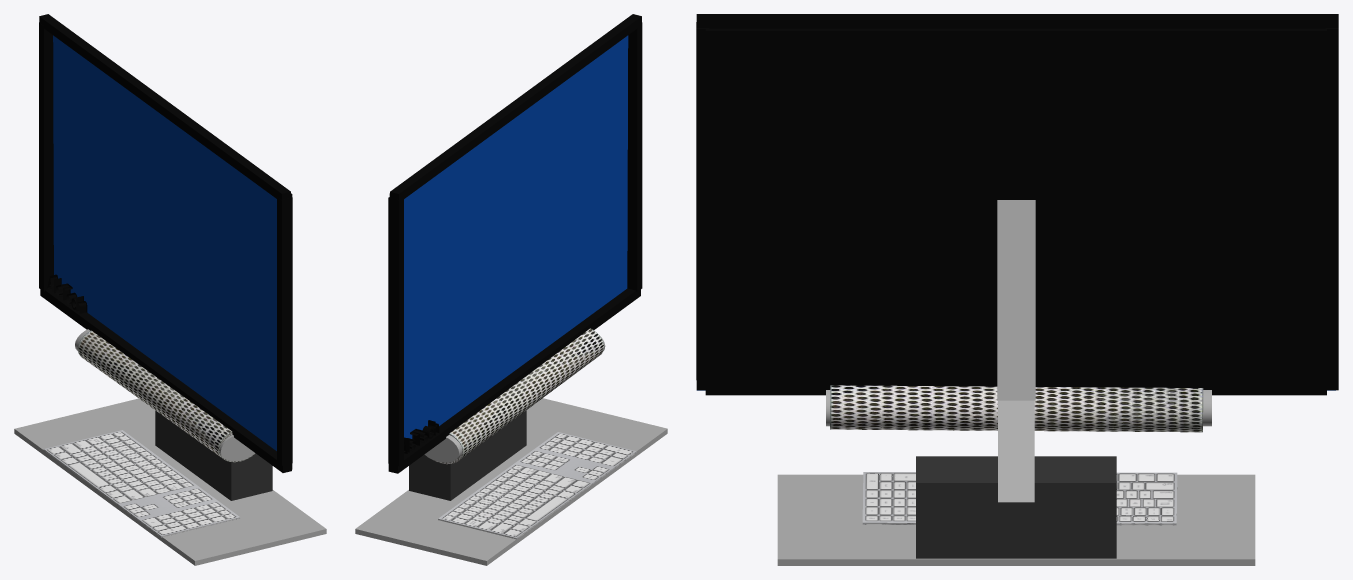
File: desktop-computer.obj
The picture shows the model from 3 angles, left to right: view 1: azimuth 30°, elevation 25°; view 2: azimuth 150°, elevation 25°; view 3: azimuth 270°, elevation 25°; orthographic projection. The views are drawn at different scales.
Visible parts, largest first — view 1: Plane, Box7, Box9, Cylinder, Box1, Box10, Box4, Box3, Box2, Cylinder1, TV; view 2: Plane, Box7, Box9, Cylinder, Box1, Box3, Box10, Box4, Box2, Cylinder1, TV; view 3: Box5, Box7, Box10, Cylinder, Box1, Box6, Box9, Box3, Box8, Box4.
Part boxes in pixels (box(x1,y1,x2,y2)): Plane: box(53, 35, 276, 450); Box7: box(14, 398, 326, 565); Box9: box(43, 430, 240, 537); Cylinder: box(77, 330, 254, 462); Box1: box(39, 14, 290, 199); Box10: box(155, 410, 272, 500); Box4: box(277, 196, 292, 465); Box3: box(39, 22, 53, 291); Box2: box(40, 289, 291, 472); Cylinder1: box(75, 329, 255, 461); TV: box(47, 274, 87, 314); Plane: box(404, 35, 628, 438); Box7: box(355, 398, 667, 565); Box9: box(438, 432, 636, 539); Cylinder: box(434, 328, 604, 464); Box1: box(390, 14, 641, 199); Box3: box(388, 197, 403, 466); Box10: box(409, 410, 526, 500); Box4: box(627, 22, 642, 291); Box2: box(388, 288, 640, 473); Cylinder1: box(424, 335, 605, 462); TV: box(404, 420, 439, 454); Box5: box(705, 28, 1326, 395); Box7: box(777, 474, 1255, 565); Box10: box(916, 456, 1116, 558); Cylinder: box(830, 385, 1203, 432); Box1: box(696, 14, 1338, 28); Box6: box(997, 200, 1035, 400); Box9: box(862, 472, 1177, 525); Box3: box(1325, 28, 1338, 380); Box8: box(998, 400, 1034, 502); Box4: box(696, 22, 709, 380).
Bounding box in the file's own units: 1.32 × 2.77 × 3.2.
Materials: 6 (2 with a texture image).
